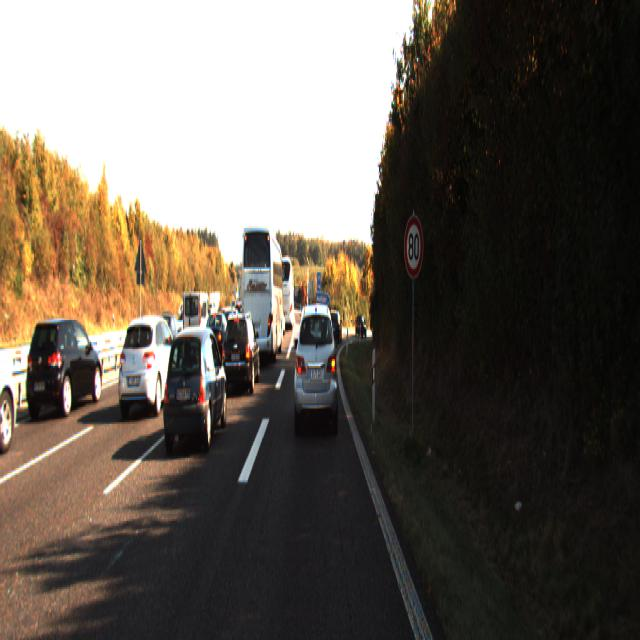Car: (160, 321, 228, 454), (25, 313, 104, 419), (116, 310, 182, 420), (293, 299, 339, 435), (240, 221, 283, 366), (221, 308, 261, 393), (0, 320, 21, 454), (182, 290, 212, 352), (278, 256, 295, 330), (327, 309, 343, 341), (356, 313, 367, 337)
